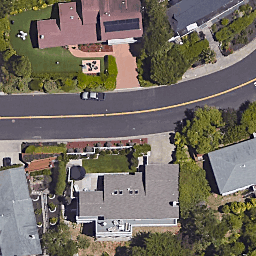car: (79, 90, 106, 102)
